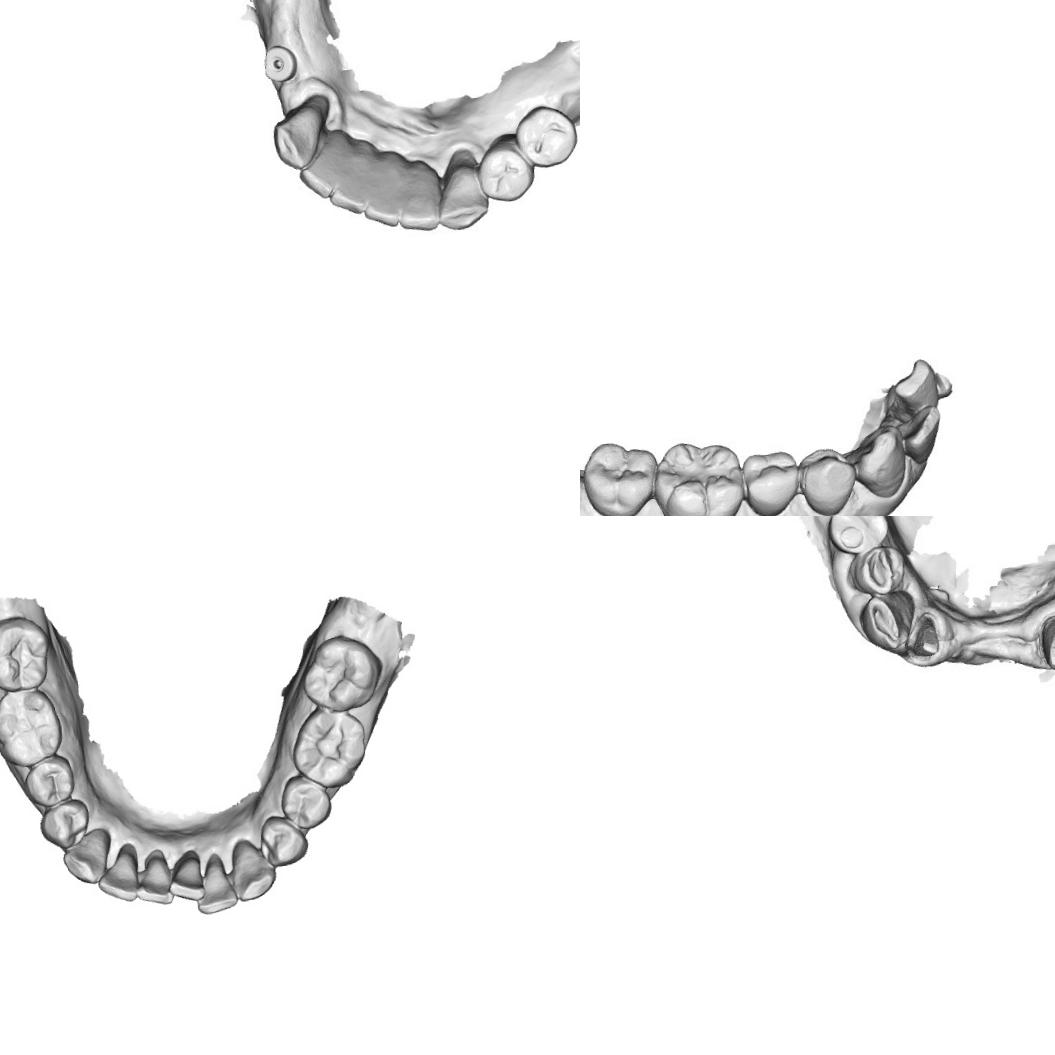canine: (848, 422, 910, 502), (430, 152, 488, 235), (268, 98, 329, 173), (57, 825, 114, 888), (856, 590, 910, 652), (229, 838, 278, 904)
crown: (908, 611, 948, 660), (1039, 612, 1055, 668)
implant: (254, 38, 310, 86)
incisor: (888, 356, 944, 414), (193, 848, 240, 916), (895, 403, 945, 465), (300, 150, 358, 200), (94, 842, 139, 904), (165, 848, 207, 904), (329, 162, 375, 212), (134, 850, 174, 907), (364, 181, 412, 227), (399, 190, 440, 230)
molar: (650, 436, 748, 516), (296, 630, 386, 716), (288, 704, 370, 790), (580, 437, 659, 516), (0, 685, 65, 769), (0, 612, 54, 694)
premolar: (793, 443, 857, 516), (738, 446, 801, 516), (514, 104, 577, 164), (849, 539, 908, 598), (278, 772, 334, 832), (482, 139, 536, 198), (22, 754, 76, 808), (37, 796, 91, 850), (258, 812, 310, 868), (828, 516, 889, 554)
